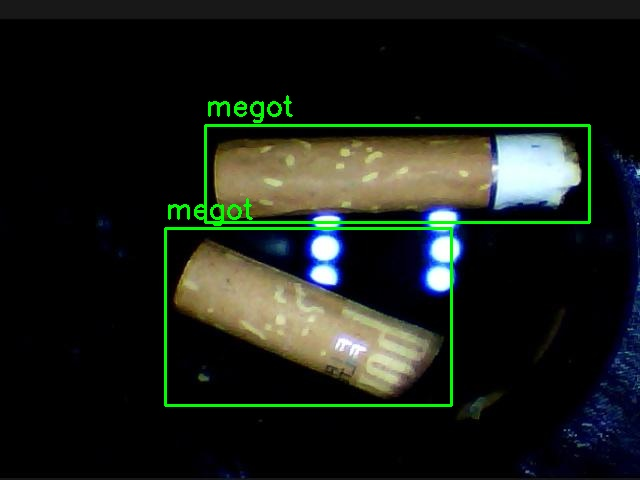megot: (165, 228, 451, 405), (205, 125, 589, 222)
